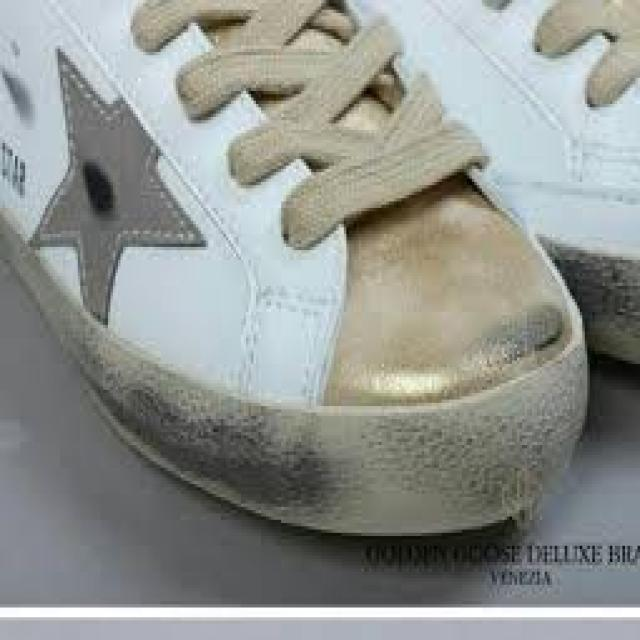shoe: (0, 0, 602, 546)
